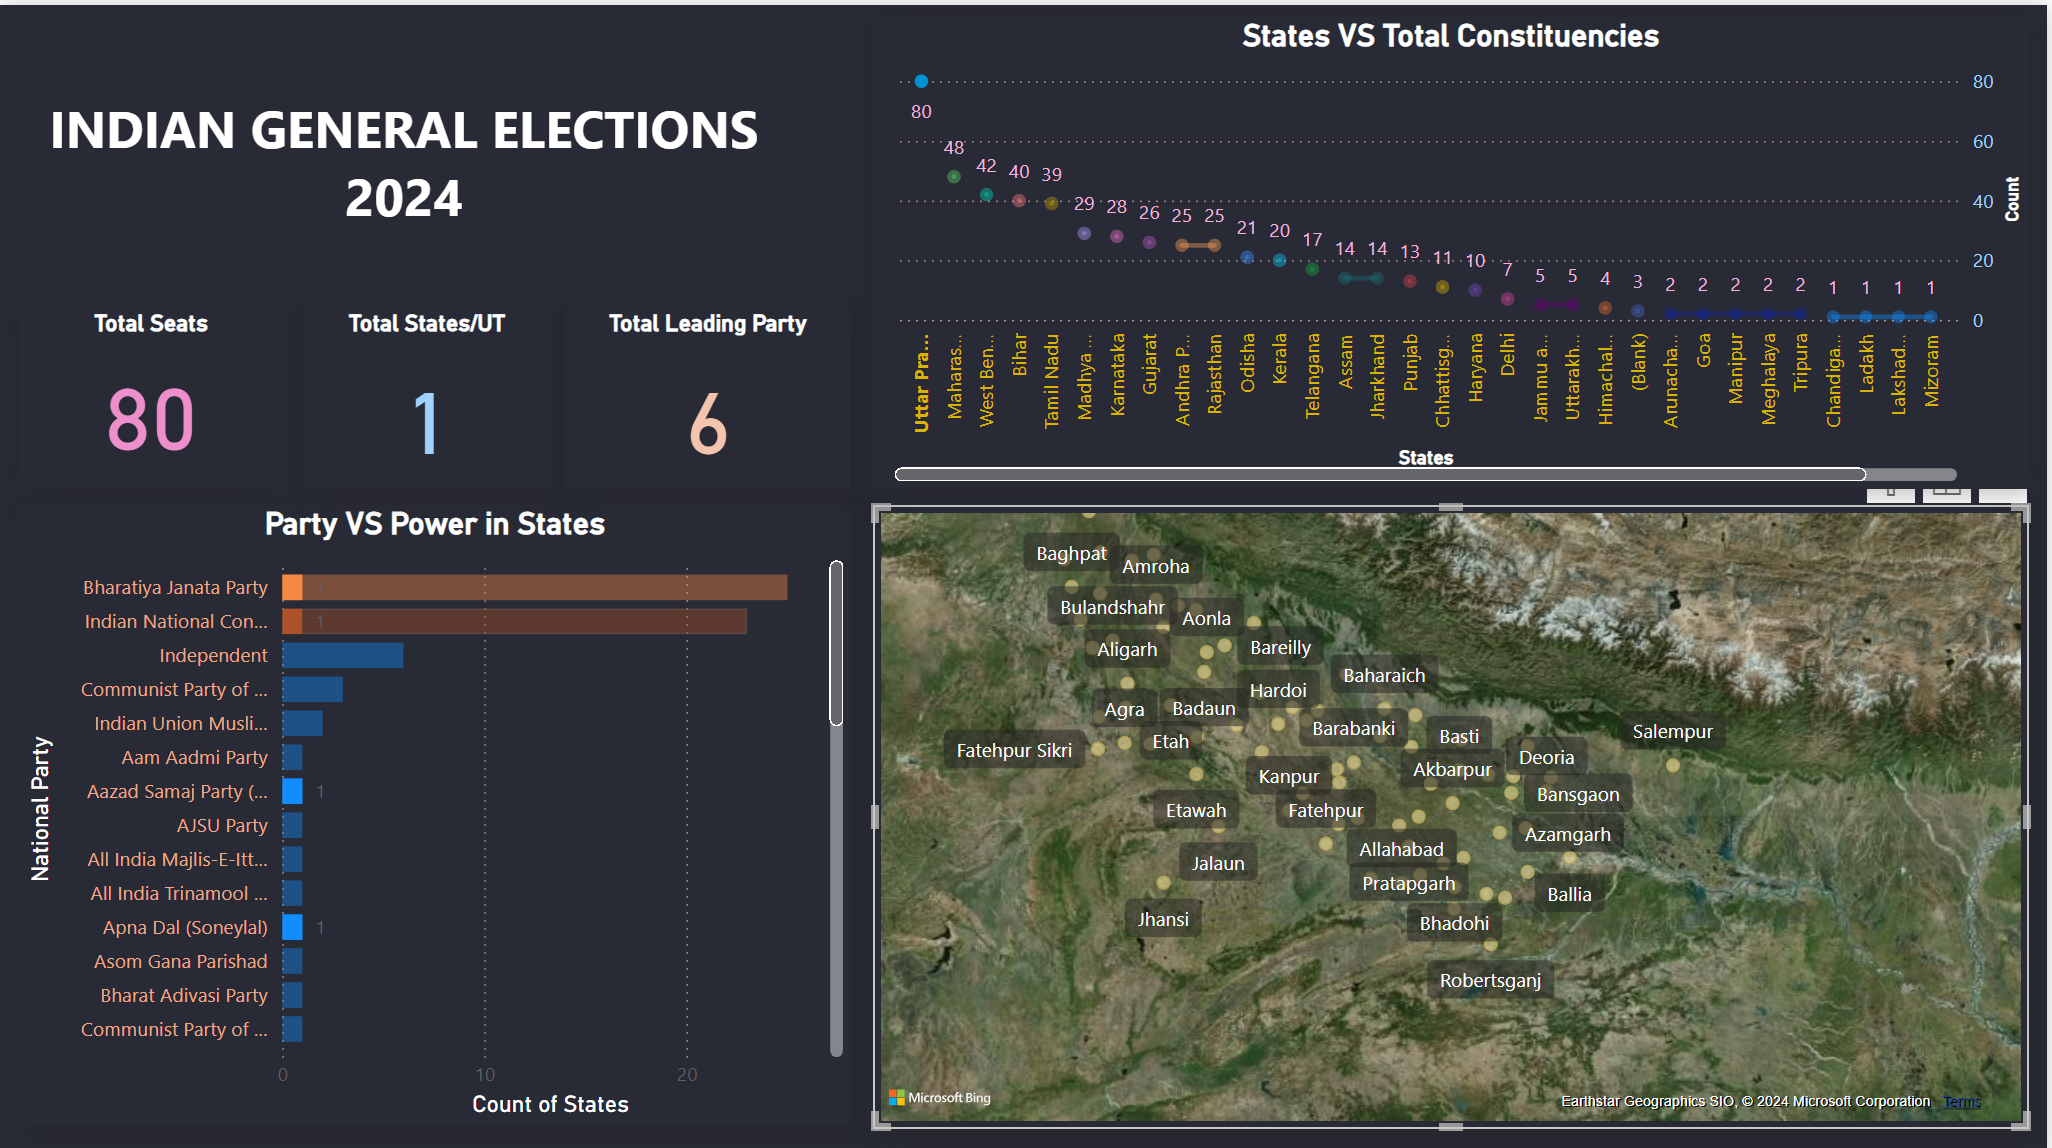

This screenshot's page, from the dashboard's own definition file:
{"tool":"powerbi","page":{"name":"Election Data","canvas":[1280,720],"ordinal":0},"visuals":[{"type":"barChart","title":"Party VS Power in States","fields":{"Category":["Indian General Elections.Leading Party"],"Y":["Count(Indian General Elections.State/UT)"]},"box":[12.5,312.5,520,387.5],"z":0},{"type":"card","title":"Total Seats","fields":{"Values":["CountNonNull(Indian General Elections.Constituency)"]},"box":[12.5,190,165,112.5],"z":1000},{"type":"textbox","box":[12.5,50,481.2,103.8],"z":2000},{"type":"map","fields":{"Category":["Indian General Elections.Constituency"],"Y":["CountNonNull(Indian General Elections.State/UT)"],"Series":["Sheet1.States"]},"box":[546.2,312.5,722.5,390],"z":3000},{"type":"card","title":"Total States/UT","fields":{"Values":["Count(Indian General Elections.State/UT)"]},"box":[190,190,155,112.5],"z":4000},{"type":"lineChart","title":"States VS Total Constituencies","fields":{"Category":["Sheet1.States"],"Series":["Sheet1.Total Constituencies"],"Y":["Count(Indian General Elections.Constituency)"]},"box":[546.2,7.5,722.5,295],"z":5000},{"type":"card","title":"Total Leading Party","fields":{"Values":["Count(Indian General Elections.Leading Party)"]},"box":[353.8,190,178.8,112.5],"z":6000}]}

Visuals, with their boxes in screenshot pixels (x1, y1, x2, y2), scaled from the page's 1280x720 canvas onto the 2052x1148 screenshot:
"Party VS Power in States" barChart: locate(20, 498, 854, 1116)
"Total Seats" card: locate(20, 303, 285, 482)
textbox: locate(20, 80, 791, 245)
map - Indian General Elections.Constituency x CountNonNull(Indian General Elections.State/UT): locate(876, 498, 2034, 1120)
"Total States/UT" card: locate(305, 303, 553, 482)
"States VS Total Constituencies" lineChart: locate(876, 12, 2034, 482)
"Total Leading Party" card: locate(567, 303, 854, 482)
